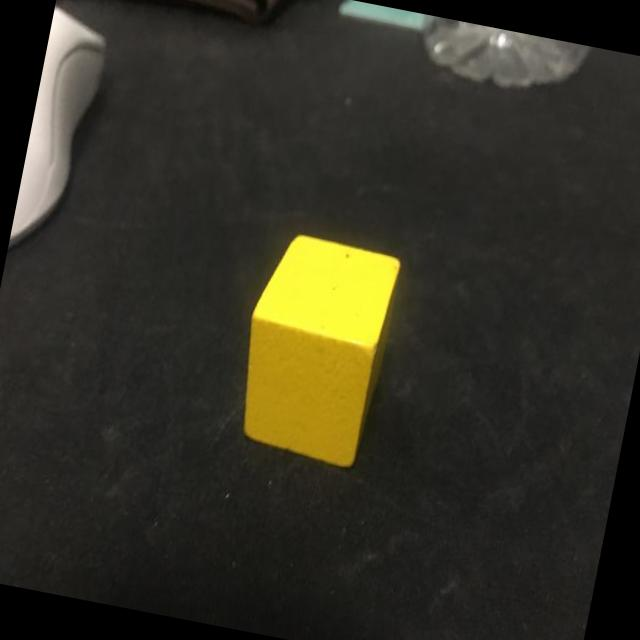yellow: (226, 228, 402, 468)
